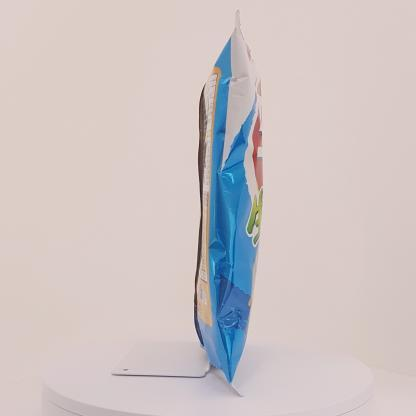Plastic Packaging: (180, 4, 288, 408)
